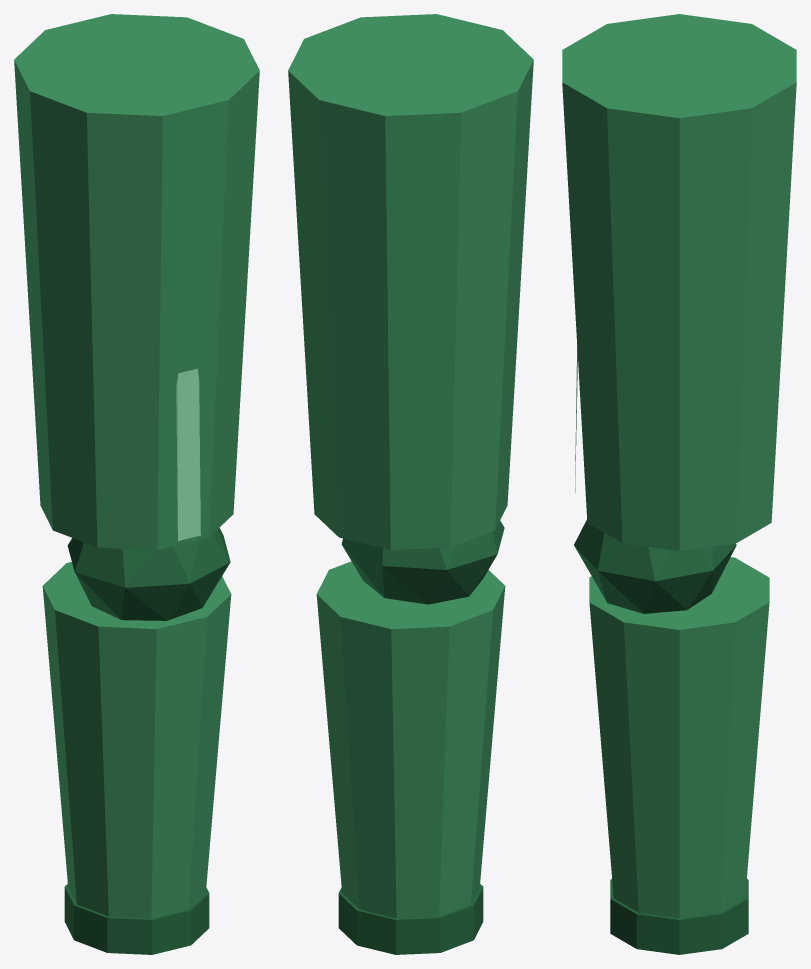
File: gear_adamant_legs_leg_l.glb
3 views of the same model, side by side, from view 1: azimuth 30°, elevation 25°; view 2: azimuth 150°, elevation 25°; view 3: azimuth 270°, elevation 25° (orthographic).
Parts seen in each view (by area): view 1: gear_adamant_legs_leg_l; view 2: gear_adamant_legs_leg_l; view 3: gear_adamant_legs_leg_l.
Boxes of the visible parts, bbox=[...] form: gear_adamant_legs_leg_l: bbox=[14, 14, 259, 954]; gear_adamant_legs_leg_l: bbox=[288, 14, 533, 954]; gear_adamant_legs_leg_l: bbox=[562, 14, 796, 954].
Size of the model in its own units: 0.224 by 0.86 by 0.213.
